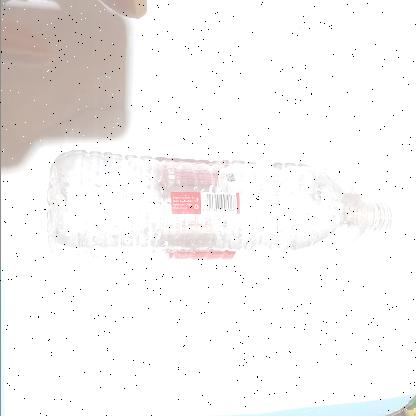Plastic Bottle: (47, 149, 394, 263)
